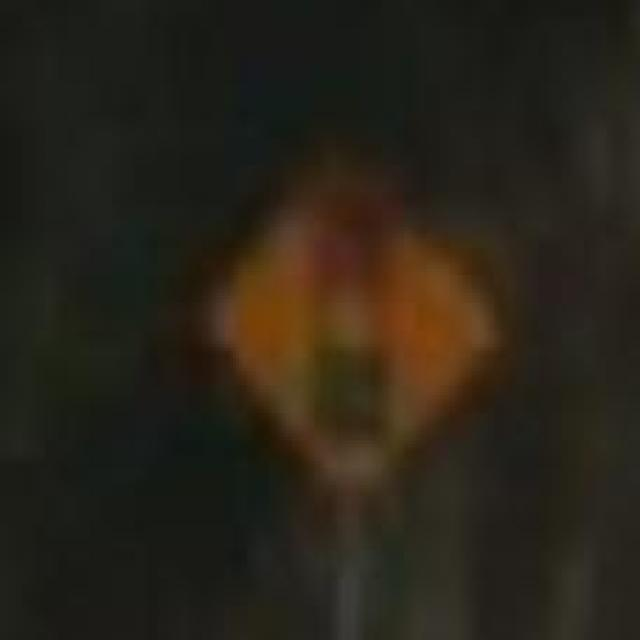traffic sign: (222, 179, 488, 482)
